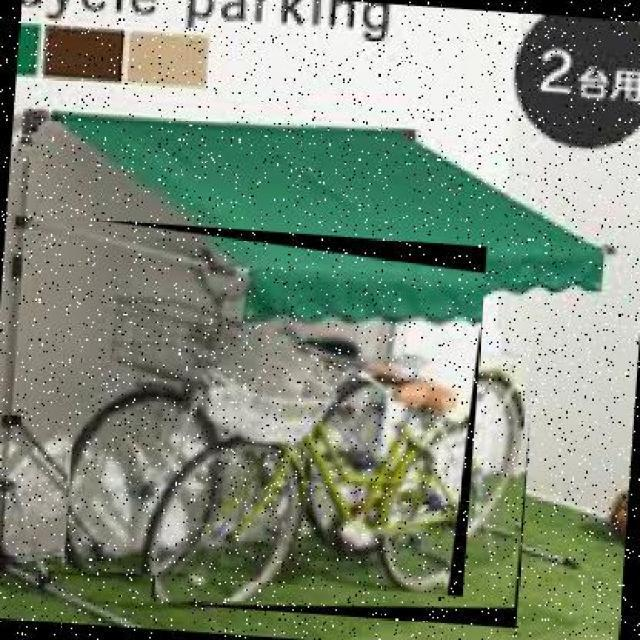bicycle: (64, 220, 490, 598), (155, 309, 539, 632)
